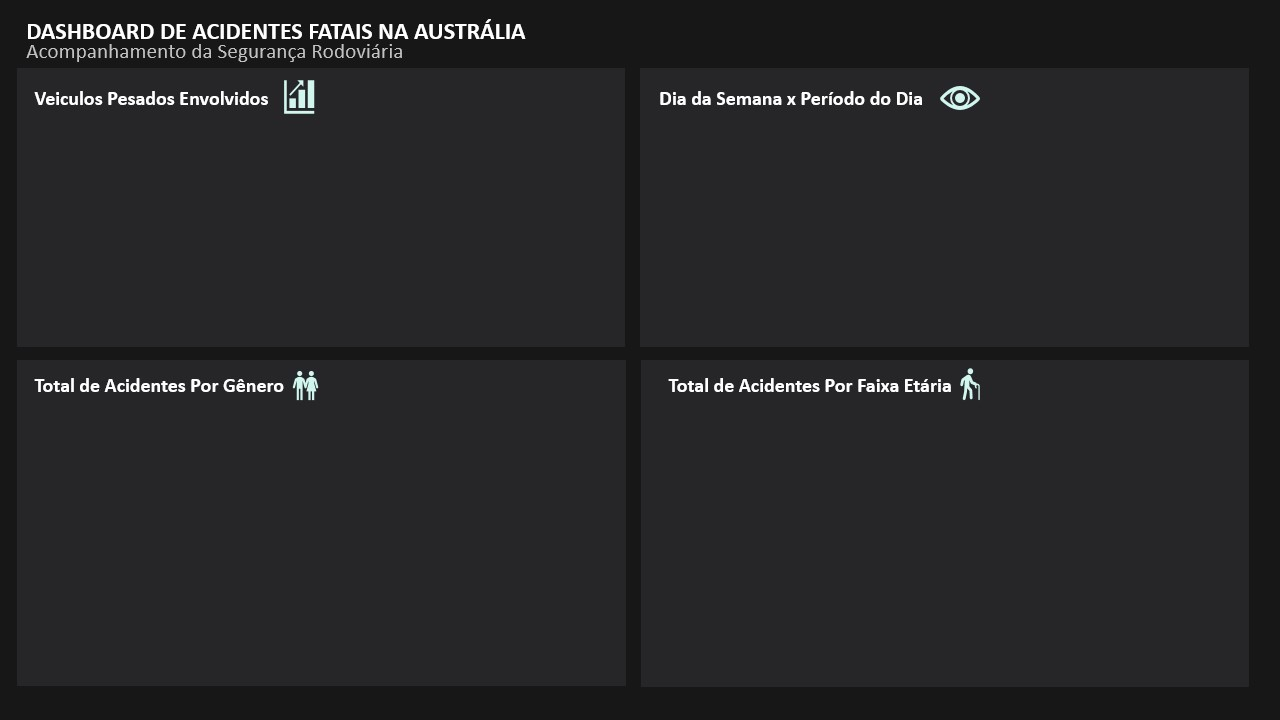

The page's visual inventory and layout, read from the dashboard file:
{"tool":"powerbi","page":{"name":"Página 2","canvas":[1280,720],"ordinal":1},"visuals":[{"type":"columnChart","fields":{"Category":["dataset_limpo1.Faixa_Etaria"],"Y":["dataset_limpo1.Total de Acidentes"]},"box":[628.4,368.2,606.3,329.9],"z":0},{"type":"donutChart","fields":{"Category":["dataset_limpo1.Genero"],"Y":["dataset_limpo1.Total de Acidentes"]},"box":[10.5,375.2,617.9,333.4],"z":1000},{"type":"pivotTable","fields":{"Rows":["dataset_limpo1.Dia_Semana"],"Columns":["dataset_limpo1.Periodo_do_Dia"],"Values":["dataset_limpo1.Total de Acidentes"]},"box":[648.1,109.2,586.6,231.1],"z":2000},{"type":"clusteredColumnChart","fields":{"Y":["dataset_limpo1.Acidentes com Caminhão Rígido","dataset_limpo1.Acidentes com Ônibus","dataset_limpo1.Acidentes com Caminhão Articulado"]},"box":[26.7,109.2,586.6,231.1],"z":3000}]}

Visuals, with their boxes in screenshot pixels (x1, y1, x2, y2), scaled from the page's 1280x720 canvas onto the 1280x720 screenshot:
columnChart - dataset_limpo1.Faixa_Etaria x dataset_limpo1.Total de Acidentes: 628,368,1235,698
donutChart - dataset_limpo1.Genero x dataset_limpo1.Total de Acidentes: 10,375,628,709
pivotTable - dataset_limpo1.Dia_Semana x dataset_limpo1.Periodo_do_Dia: 648,109,1235,340
clusteredColumnChart - dataset_limpo1.Acidentes com Caminhão Rígido x dataset_limpo1.Acidentes com Ônibus: 27,109,613,340
